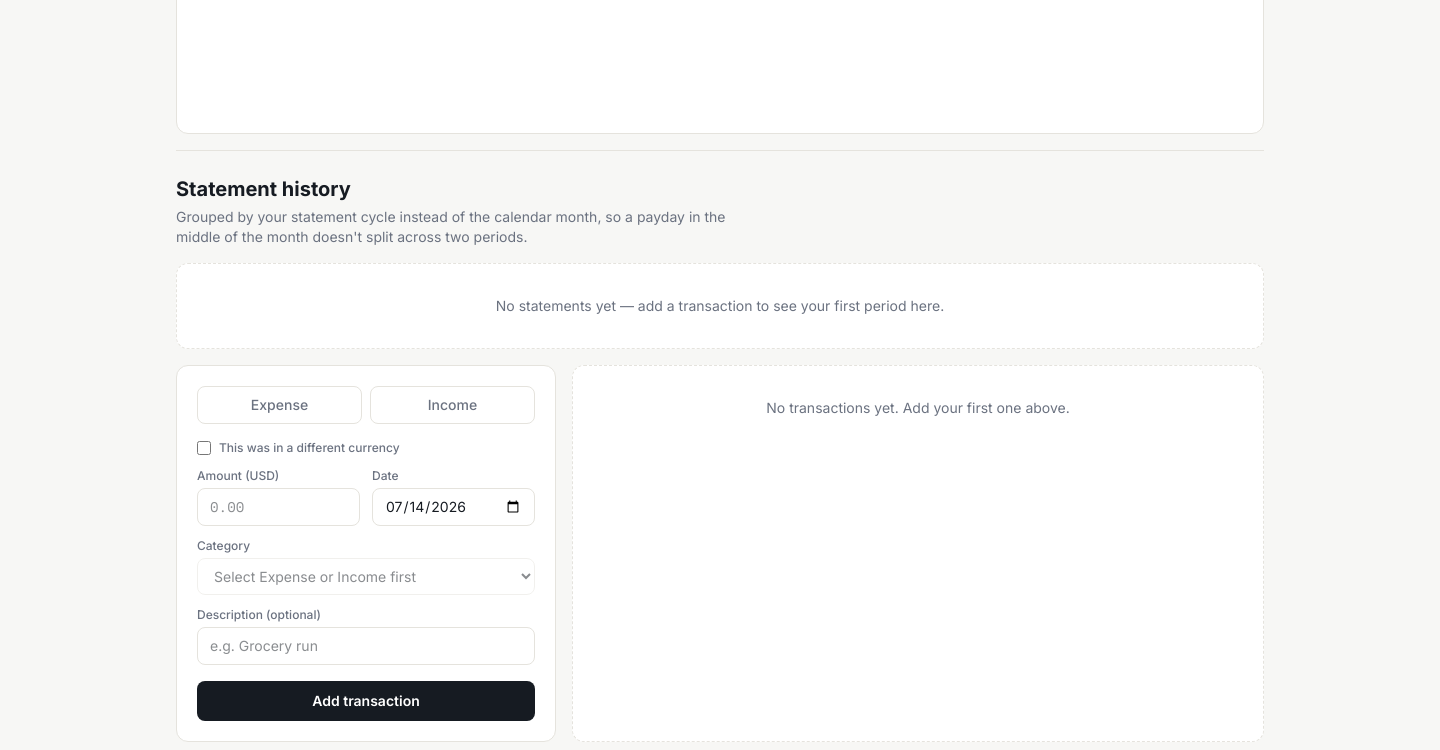
it: App › adds an expense once Expense is explicitly selected
(page scrolled)
Click the button "Expense": click(280, 405) [197, 386, 362, 424]
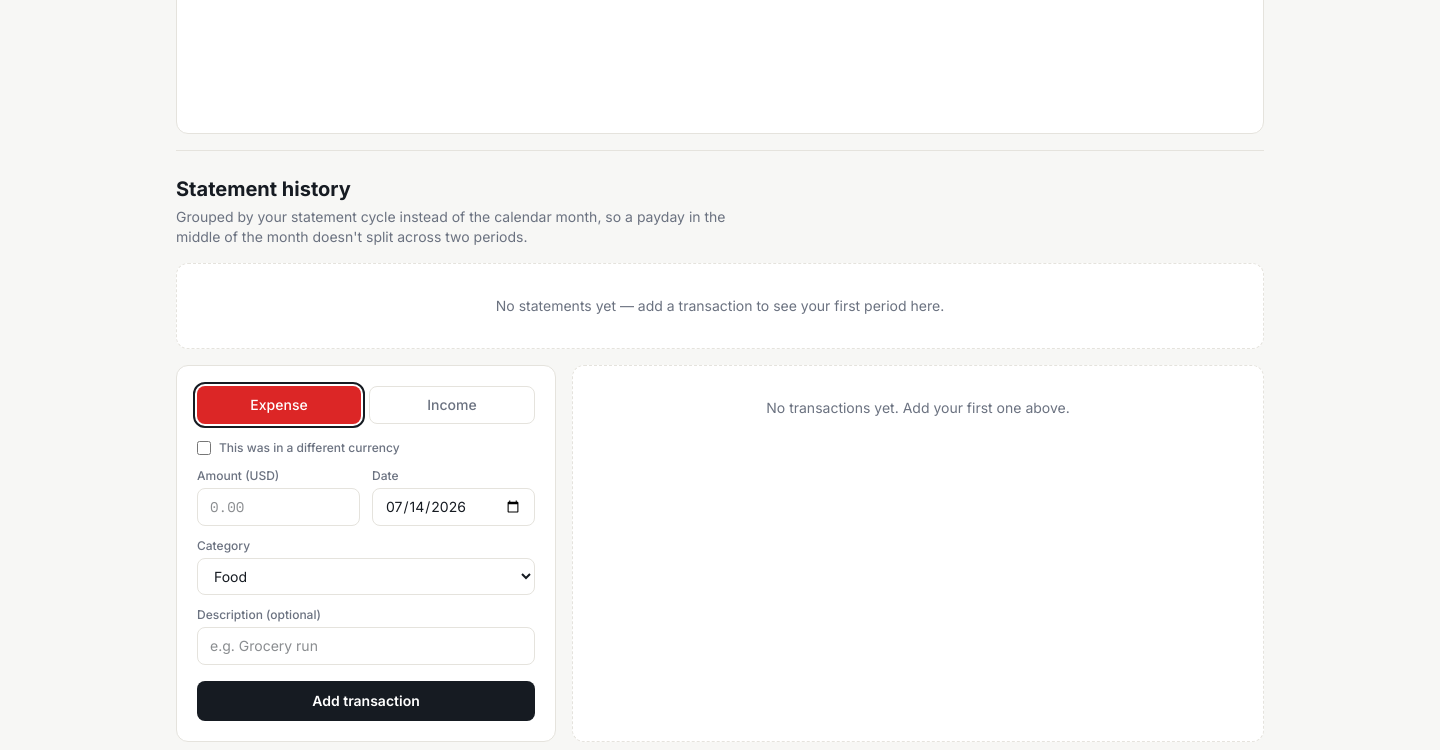
In the number field labelled "Amount (USD)": (278, 507) [197, 488, 360, 526], type "42.50"
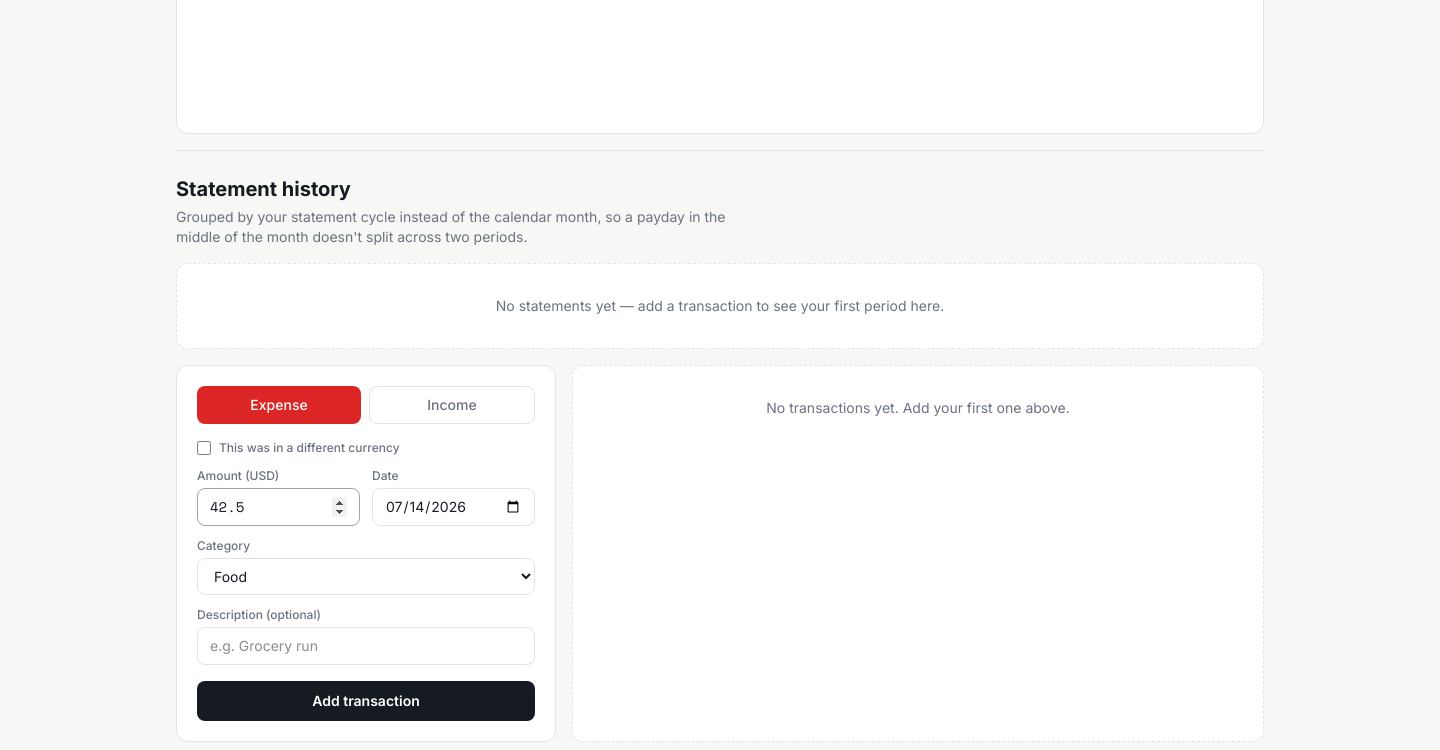
In the field labelled "Description (optional)": (366, 646) [197, 627, 535, 665], type "Groceries"
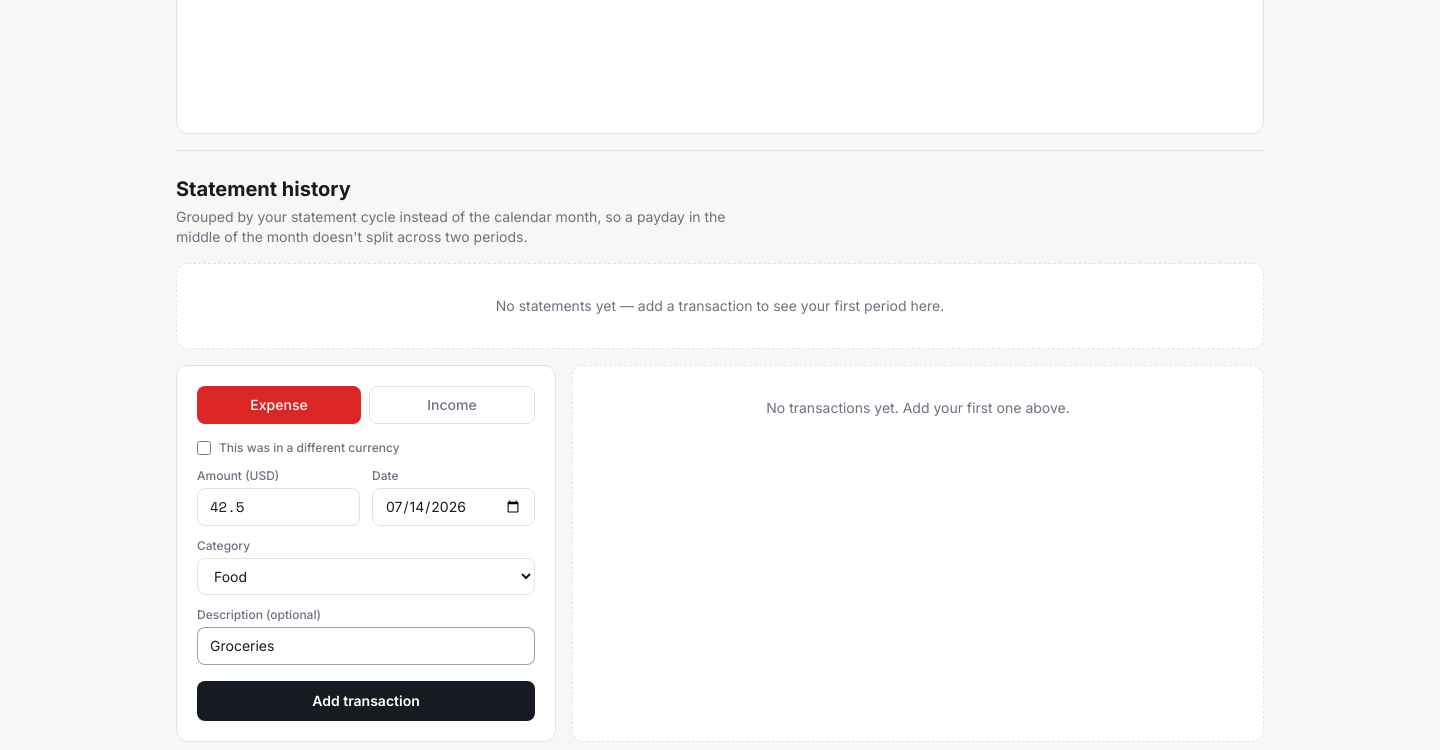
Click the button "Add transaction": click(366, 701) [197, 681, 535, 721]
(page scrolled)
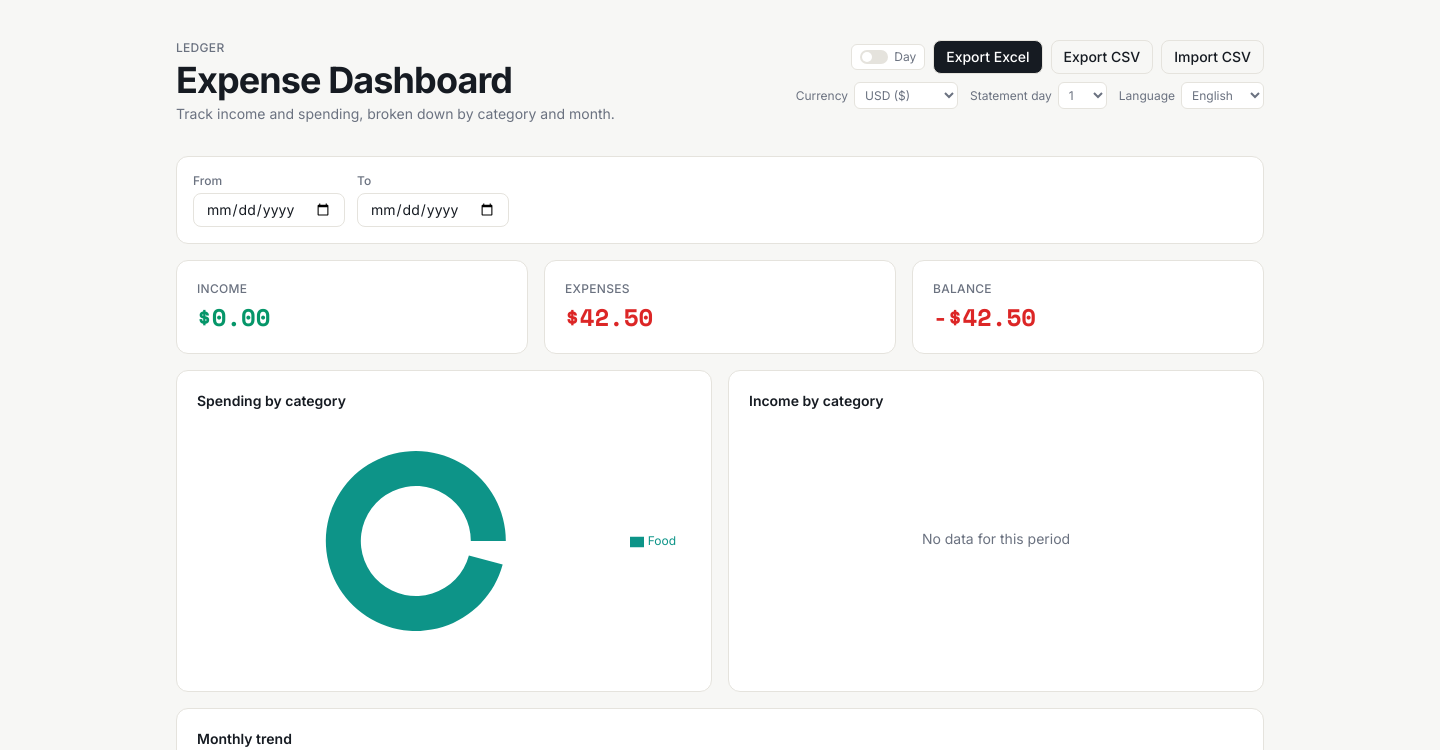
Expected: the text "-$42.50" is shown, [933, 299, 1036, 335]
